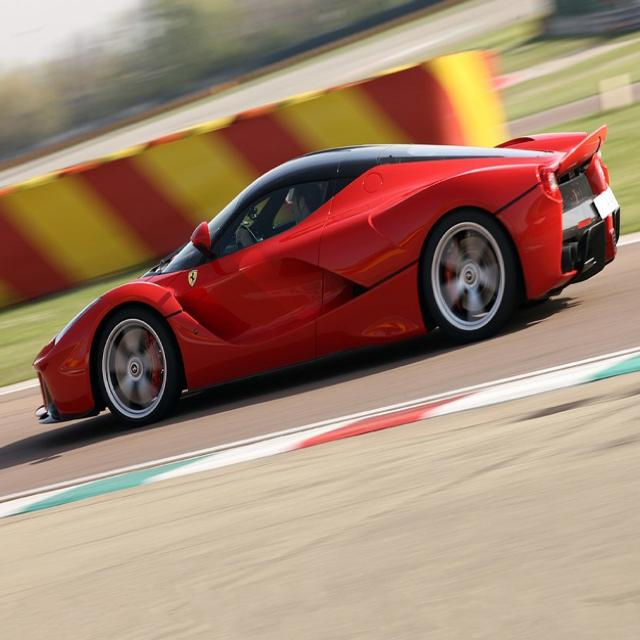back_left_side_light: (532, 160, 565, 208)
back_right_side_light: (587, 150, 613, 192)
front_bumper: (30, 308, 99, 434)
front_left_side_door: (152, 152, 342, 404)
front_left_side_mirror: (189, 216, 215, 258)
rear_bumper: (497, 154, 624, 300)
wheel: (426, 207, 514, 341), (95, 302, 176, 420)
